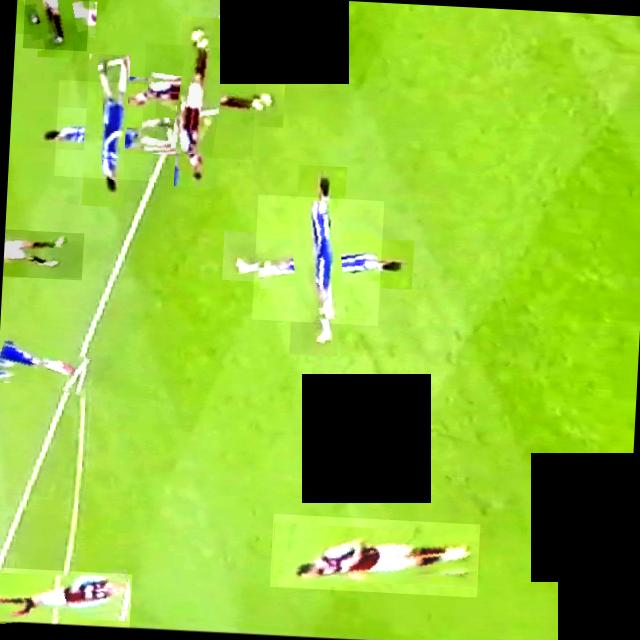soccer-player: (268, 514, 480, 598), (251, 195, 383, 326), (140, 44, 258, 160), (53, 80, 156, 181), (0, 566, 131, 628), (0, 338, 93, 393), (2, 230, 83, 280), (22, 0, 89, 51)
